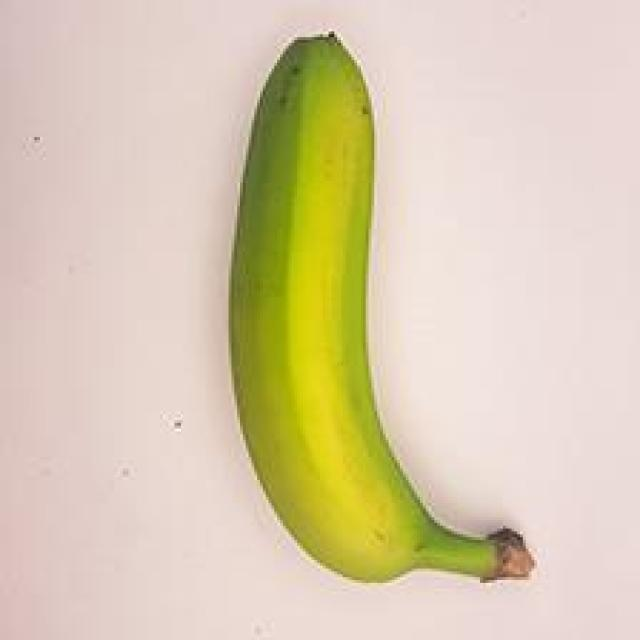Unripe: (171, 17, 544, 597)
